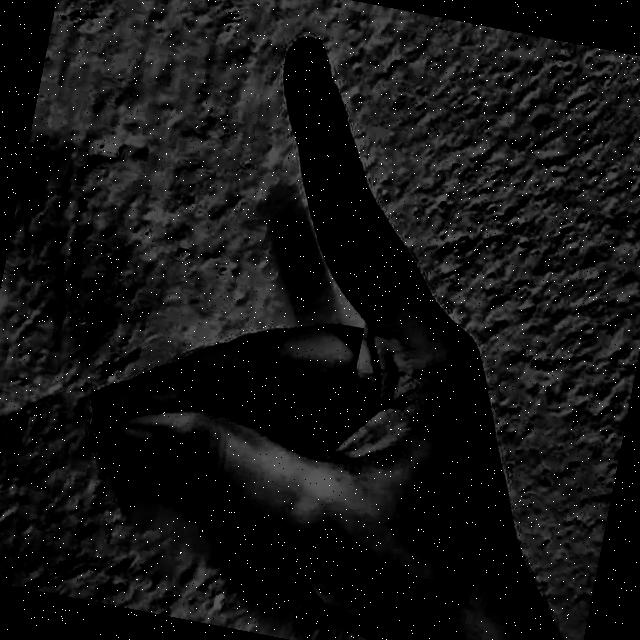Dha: (34, 0, 614, 640)
